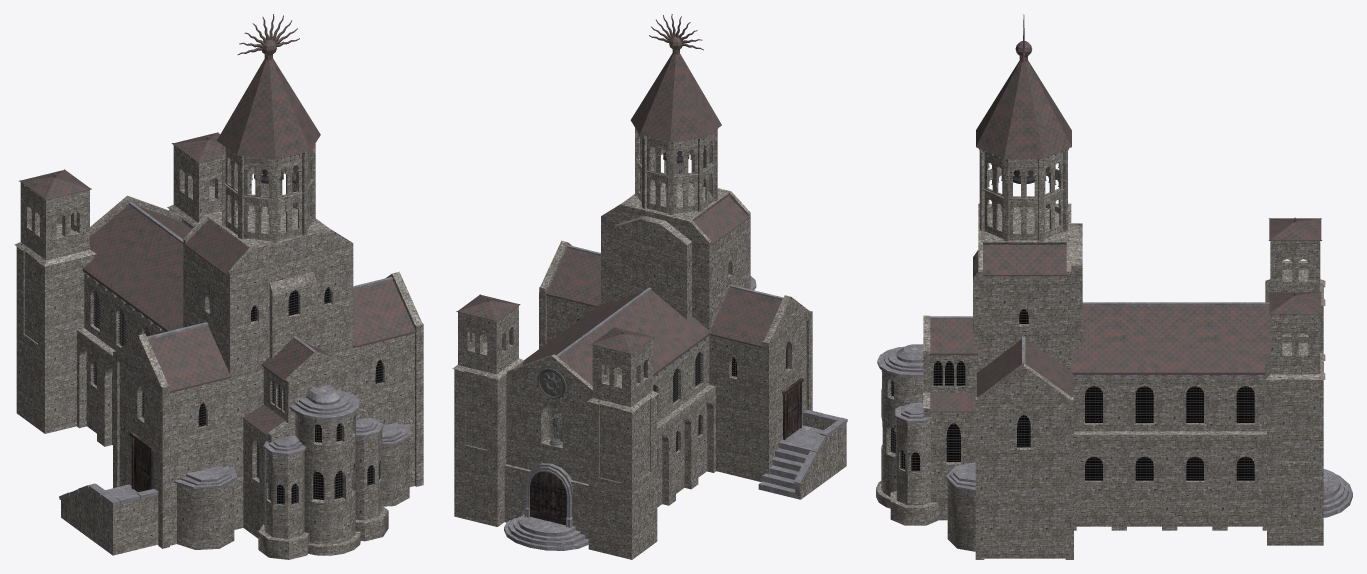
Rendered from medieval_church.glb.
3 views of the same model, side by side, from view 1: azimuth 30°, elevation 25°; view 2: azimuth 150°, elevation 25°; view 3: azimuth 270°, elevation 25° (orthographic). The views are drawn at different scales.
Parts seen in each view (by area): view 1: medieval_church; view 2: medieval_church; view 3: medieval_church.
Boxes of the visible parts, bbox=[...] form: medieval_church: bbox=[14, 14, 423, 559]; medieval_church: bbox=[452, 14, 847, 559]; medieval_church: bbox=[876, 14, 1352, 559].
Bounding box in the file's own units: 12.41 × 18.77 × 16.92.
12 materials, 12 textured.
